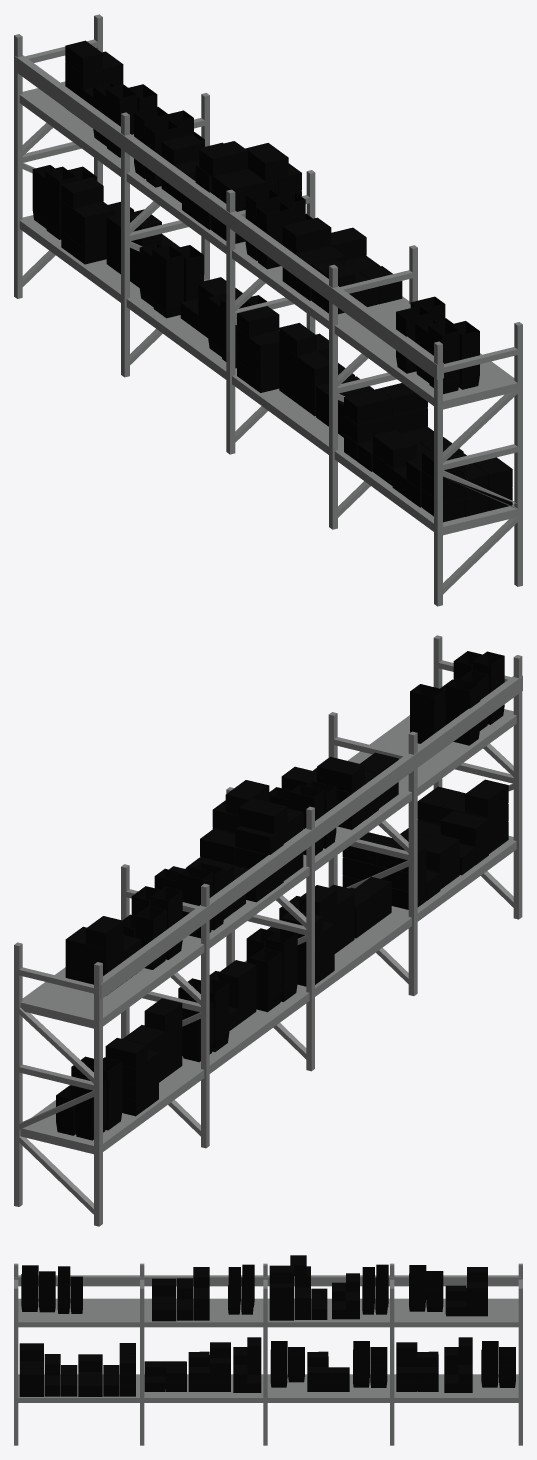
Rendered from aws_robomaker_warehouse_ShelfF_01_visual.DAE.
The picture shows the model from 3 angles, top to bottom: view 1: azimuth 30°, elevation 25°; view 2: azimuth 150°, elevation 25°; view 3: azimuth 270°, elevation 25°; orthographic projection. The views are drawn at different scales.
Parts seen in each view (by area): view 1: aws_robomaker_warehouse_ShelfF_01_visual; view 2: aws_robomaker_warehouse_ShelfF_01_visual; view 3: aws_robomaker_warehouse_ShelfF_01_visual.
Boxes of the visible parts, bbox=[...] form: aws_robomaker_warehouse_ShelfF_01_visual: bbox=[14, 14, 522, 606]; aws_robomaker_warehouse_ShelfF_01_visual: bbox=[14, 635, 522, 1226]; aws_robomaker_warehouse_ShelfF_01_visual: bbox=[14, 1255, 522, 1445].
Bounding box in the file's own units: 212 × 1805 × 653.
Materials: 3 (1 with a texture image).
